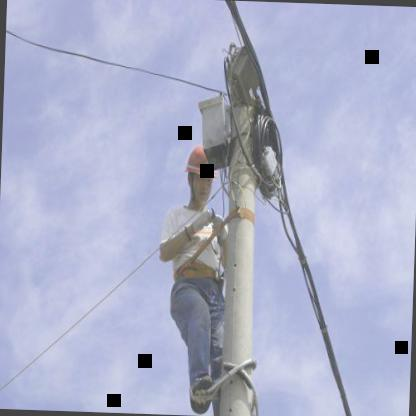helmet: (183, 136, 214, 204)
